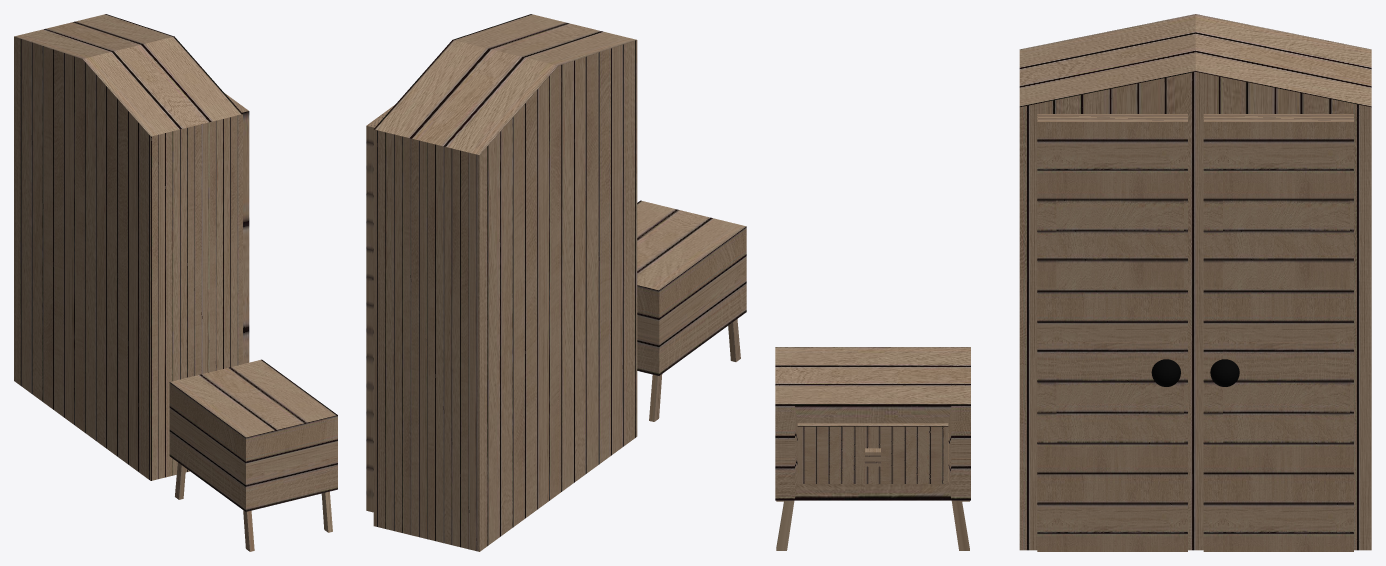
Rendered from shkafi.fbx.
The picture shows the model from 3 angles, left to right: view 1: azimuth 30°, elevation 25°; view 2: azimuth 150°, elevation 25°; view 3: azimuth 270°, elevation 25°; orthographic projection. The views are drawn at different scales.
Parts seen in each view (by area): view 1: Cube.002, Cube, Cube.003; view 2: Cube.002, Cube, Cube.004; view 3: Cube.004, Cube.003, Cube.002, Cube, Cube.001.
Part boxes in pixels (x1,y1,x2,y2): Cube.002: [14, 14, 242, 480]; Cube: [169, 359, 337, 551]; Cube.003: [224, 93, 249, 363]; Cube.002: [373, 14, 637, 551]; Cube: [637, 200, 746, 421]; Cube.004: [366, 105, 394, 512]; Cube.004: [1203, 114, 1353, 551]; Cube.003: [1037, 114, 1187, 551]; Cube.002: [1019, 14, 1371, 550]; Cube: [775, 347, 970, 550]; Cube.001: [797, 423, 948, 483].
Size of the model in its own units: 175 by 544 by 610.
